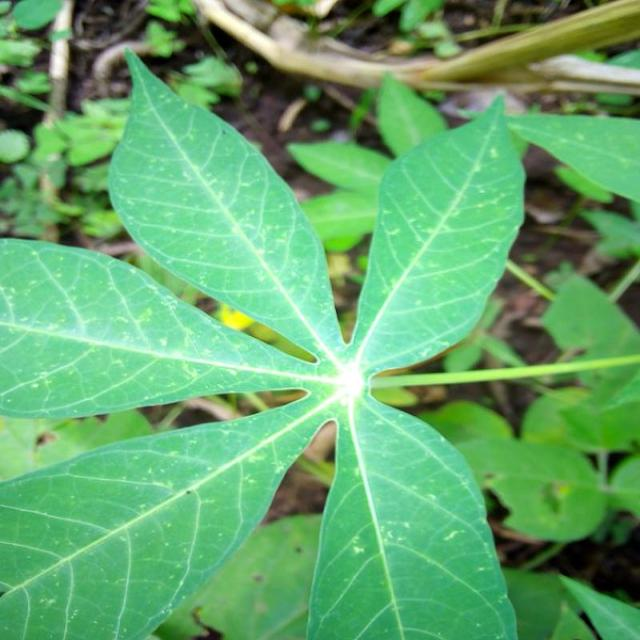cassava leaf: (2, 48, 531, 638), (108, 45, 346, 362), (350, 90, 528, 376)
